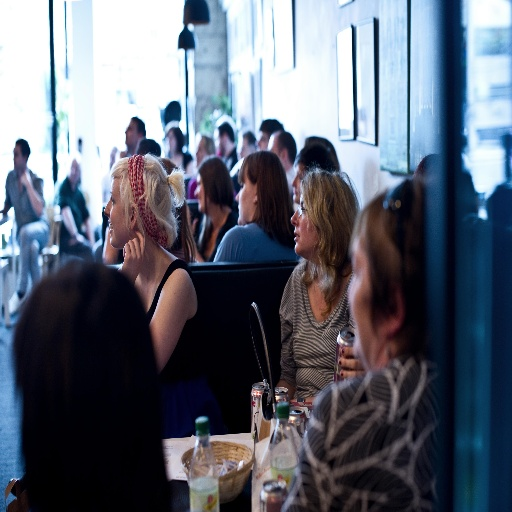hand: (119, 230, 144, 282), (336, 345, 366, 380), (186, 202, 198, 235), (19, 170, 31, 187), (68, 232, 84, 243)
